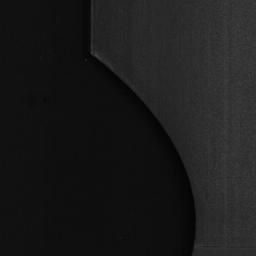Crescent gap: (91, 55, 196, 256)
